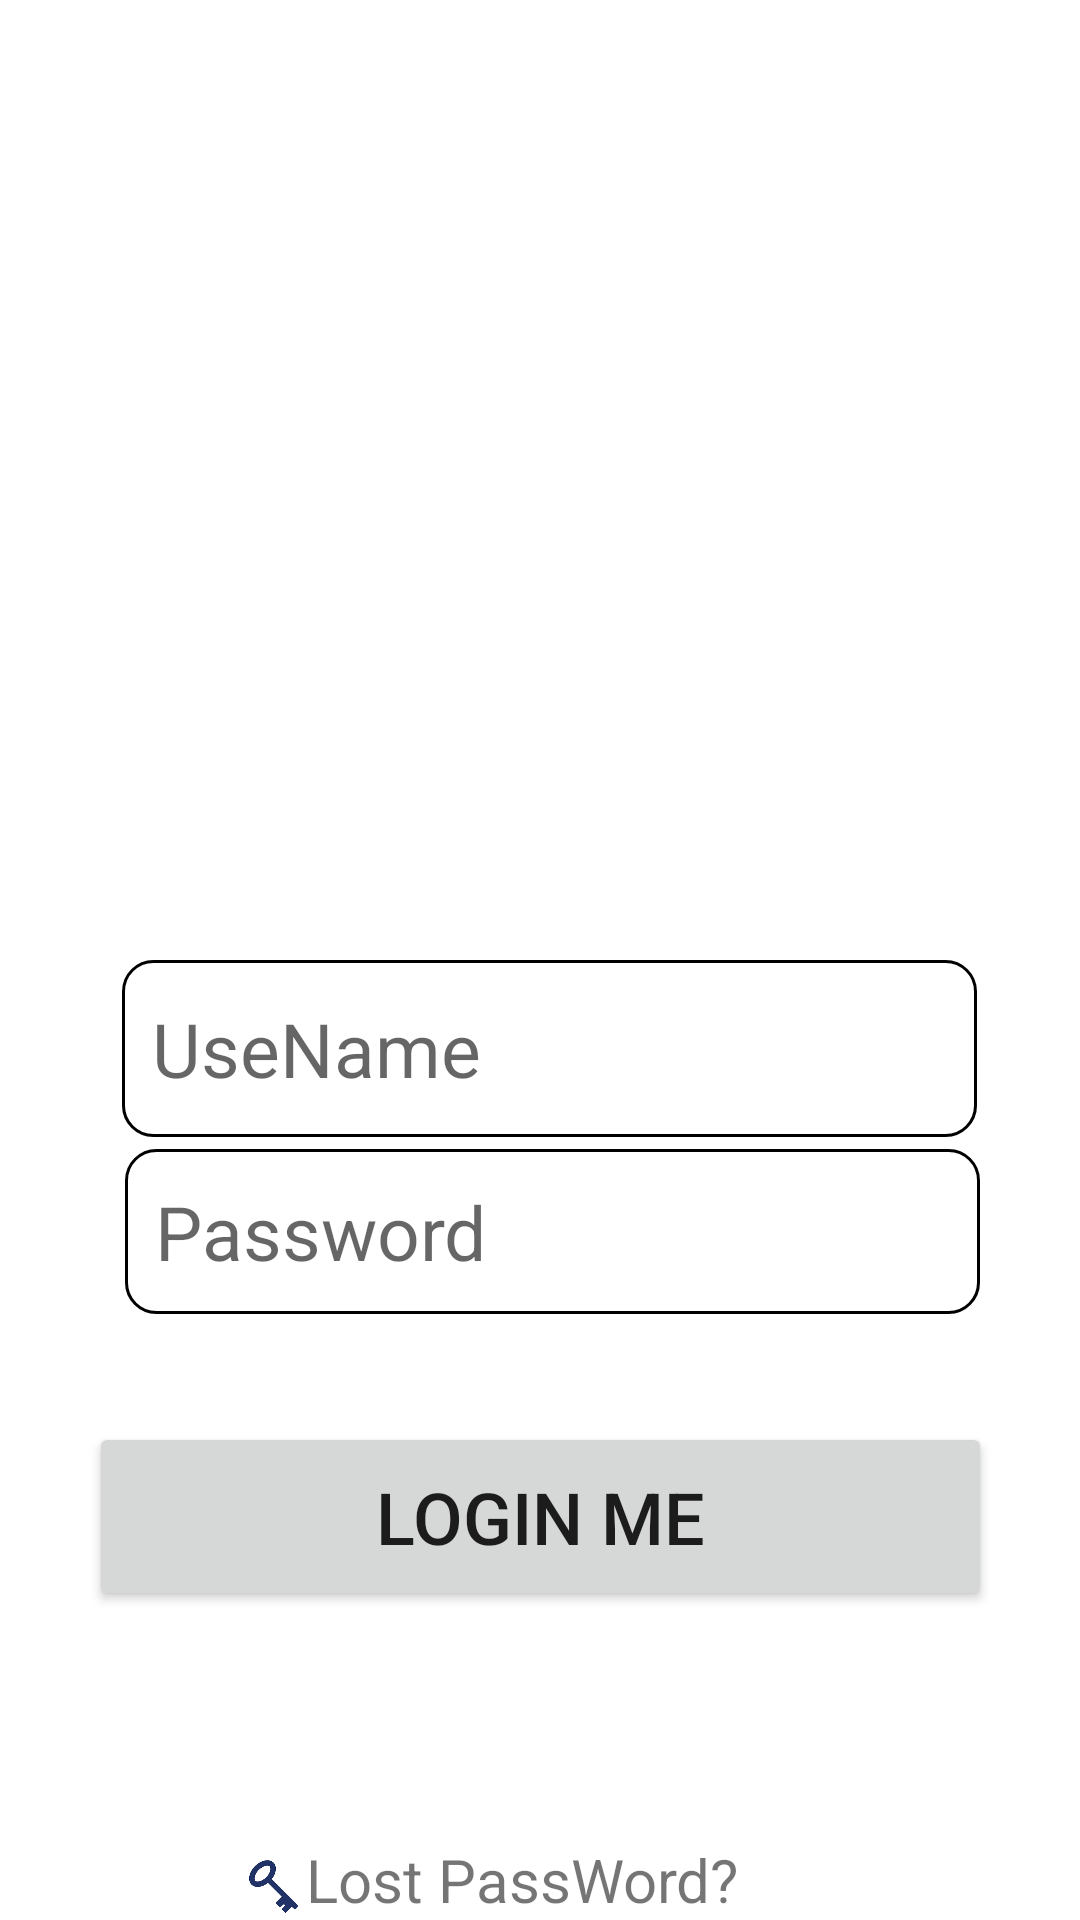

Where icons sit on this 1080 × 1920 app screen, as (x1, y1, x2, y2):
khoa: (249, 1860, 298, 1913)
